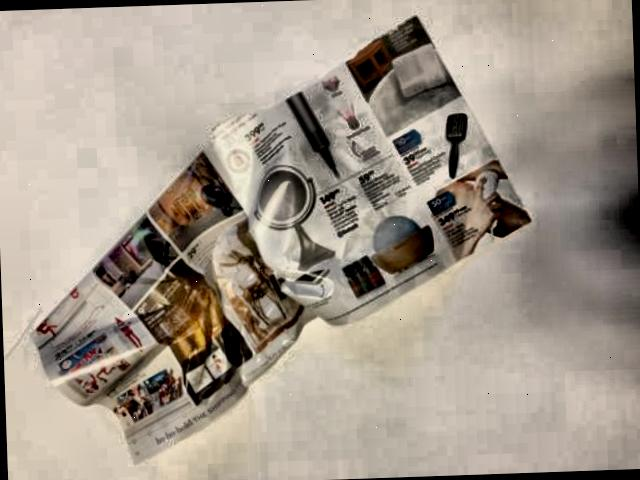Paper: (0, 1, 556, 476)
